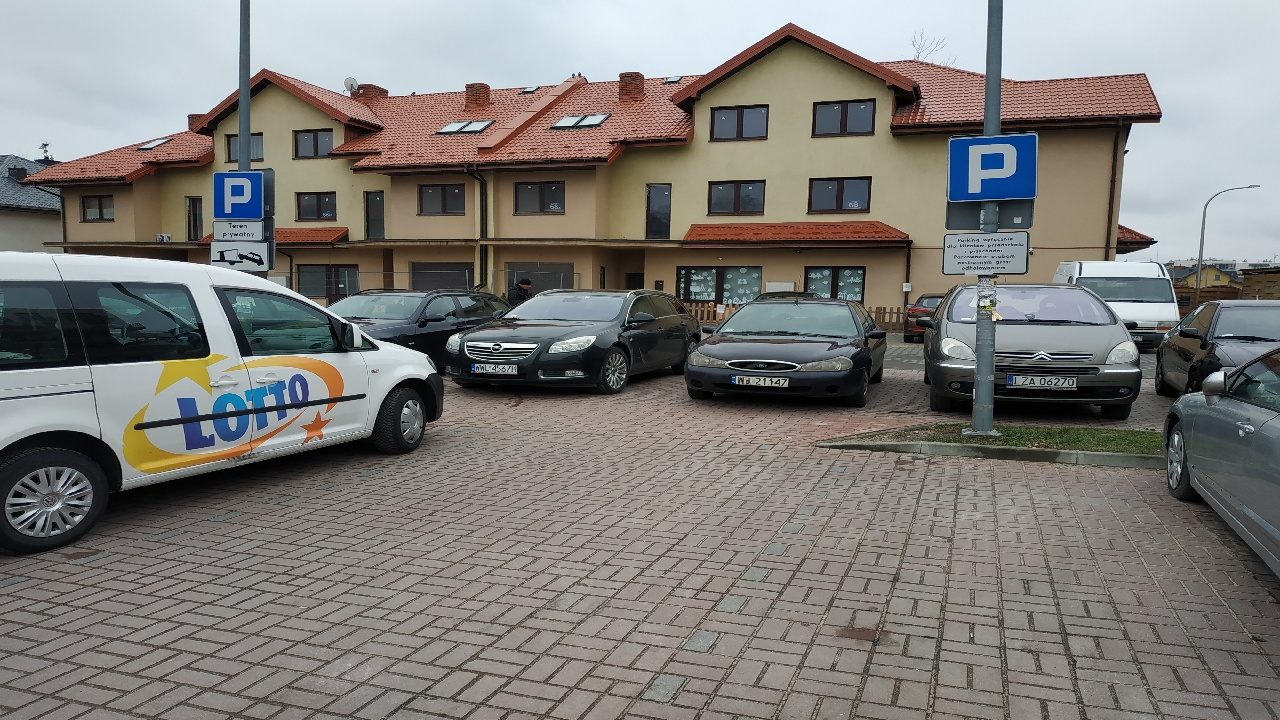D18: (944, 126, 1049, 205), (207, 168, 281, 223)
